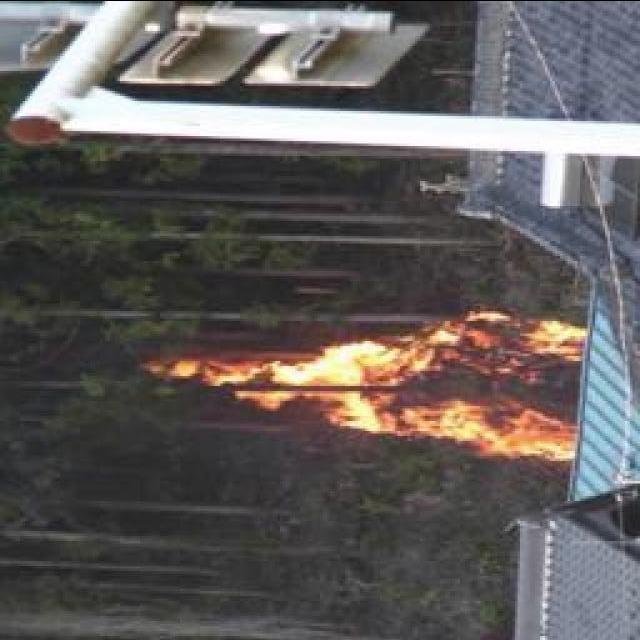Fire: (200, 306, 586, 458)
